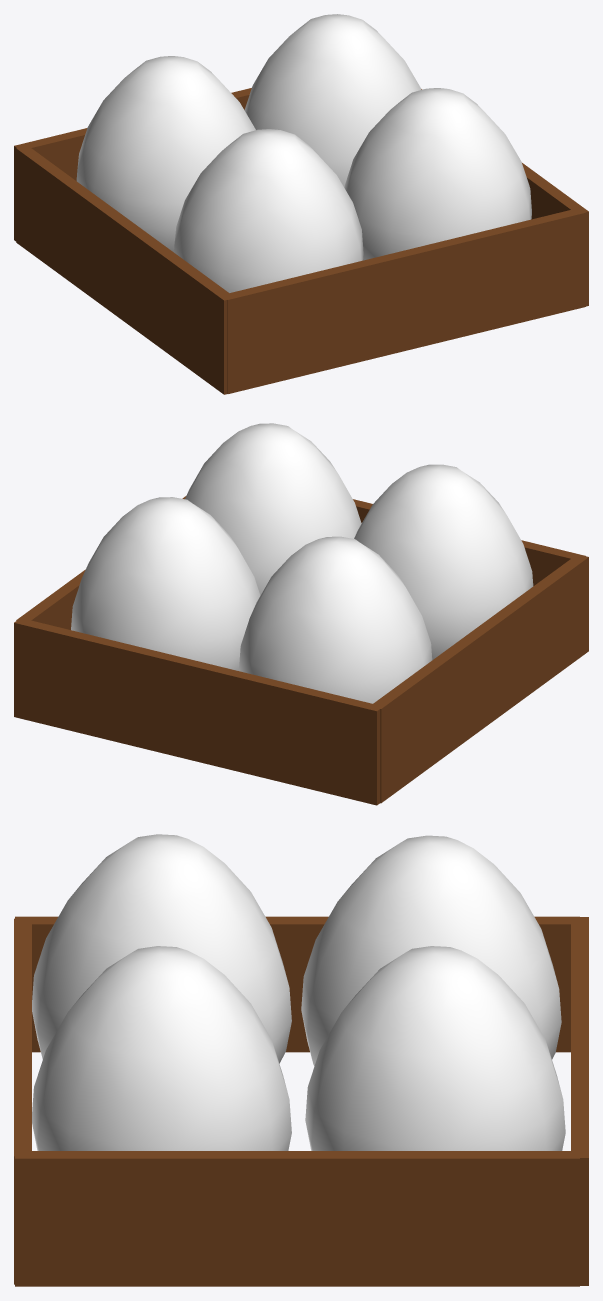
File: HarvestRooms@EggsBox.fbx
3 views of the same model, one above another, from view 1: azimuth 30°, elevation 25°; view 2: azimuth 150°, elevation 25°; view 3: azimuth 270°, elevation 25° (orthographic). The views are drawn at different scales.
Visible parts, largest first — view 1: EggsBox; view 2: EggsBox; view 3: EggsBox.
Part boxes in pixels (left/top/right/bottom): EggsBox: left=14, top=14, right=588, bottom=394; EggsBox: left=14, top=423, right=588, bottom=805; EggsBox: left=14, top=834, right=588, bottom=1286.
Bounding box in the file's own units: 46.81 × 25.51 × 46.99.
